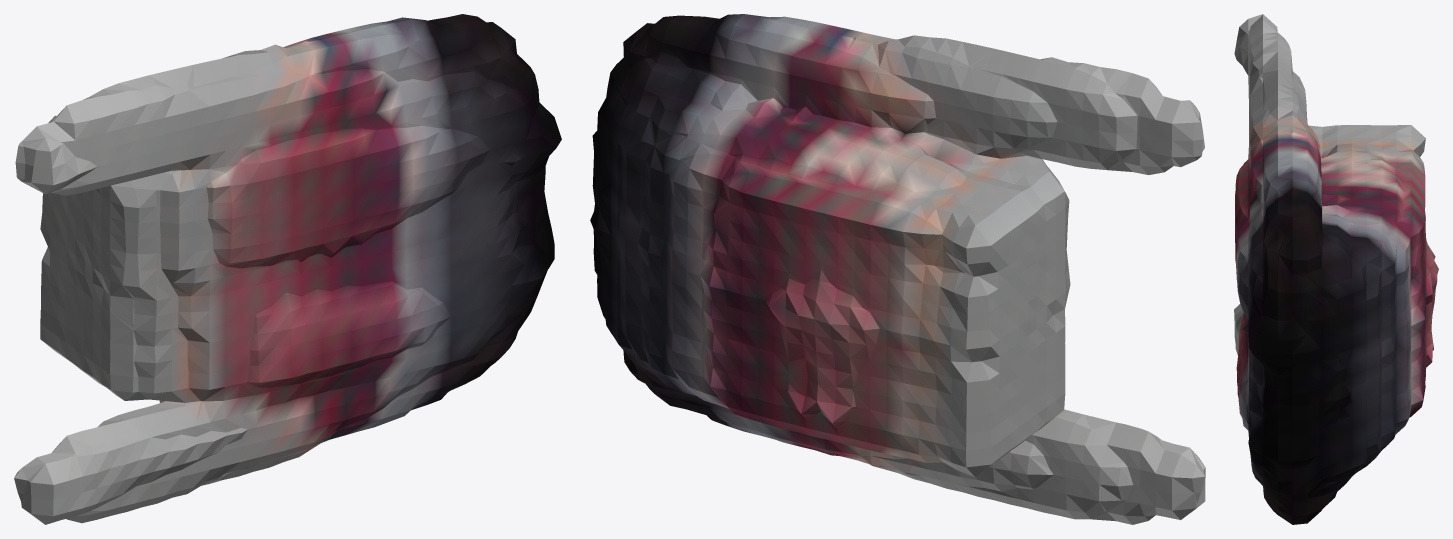
Rendered from producto-004.glb.
3 renders of one model, left to right at view 1: azimuth 30°, elevation 25°; view 2: azimuth 150°, elevation 25°; view 3: azimuth 270°, elevation 25°, orthographic. The views are drawn at different scales.
Parts seen in each view (by area): view 1: world; view 2: world; view 3: world.
Part boxes in pixels (x1=…): world: x1=14, y1=14, x2=561, y2=524; world: x1=590, y1=14, x2=1205, y2=524; world: x1=1234, y1=14, x2=1438, y2=524.
Bounding box in the file's own units: 1.01 × 0.7421 × 0.3814.
